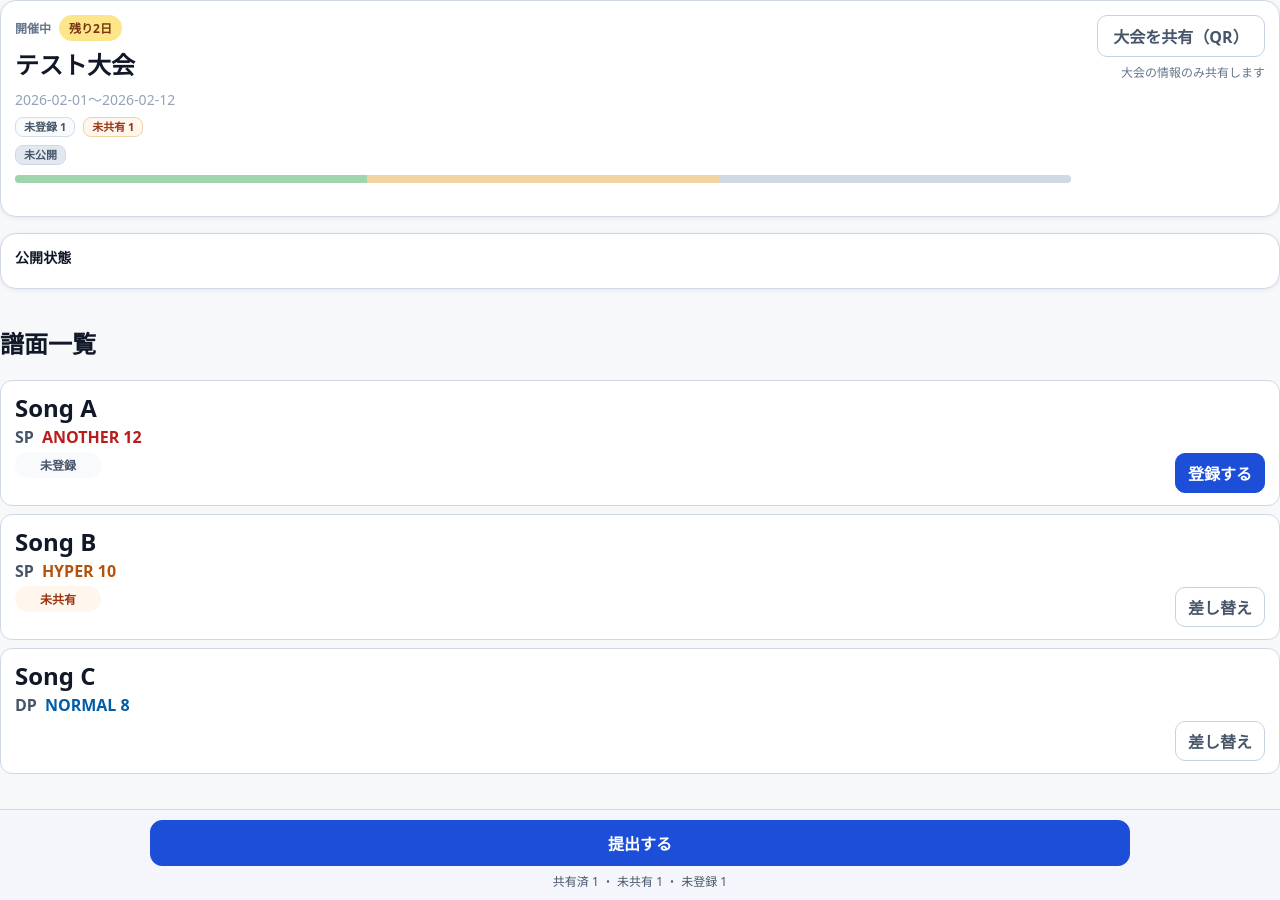
Test: TournamentDetailPage › opens submit share confirm dialog with cancel and one submit action
The image size is (1280, 900).
Click the button with test id "tournament-detail-submit-open-button" at (640,843), box top-left (150, 820), bottom-right (1130, 866)
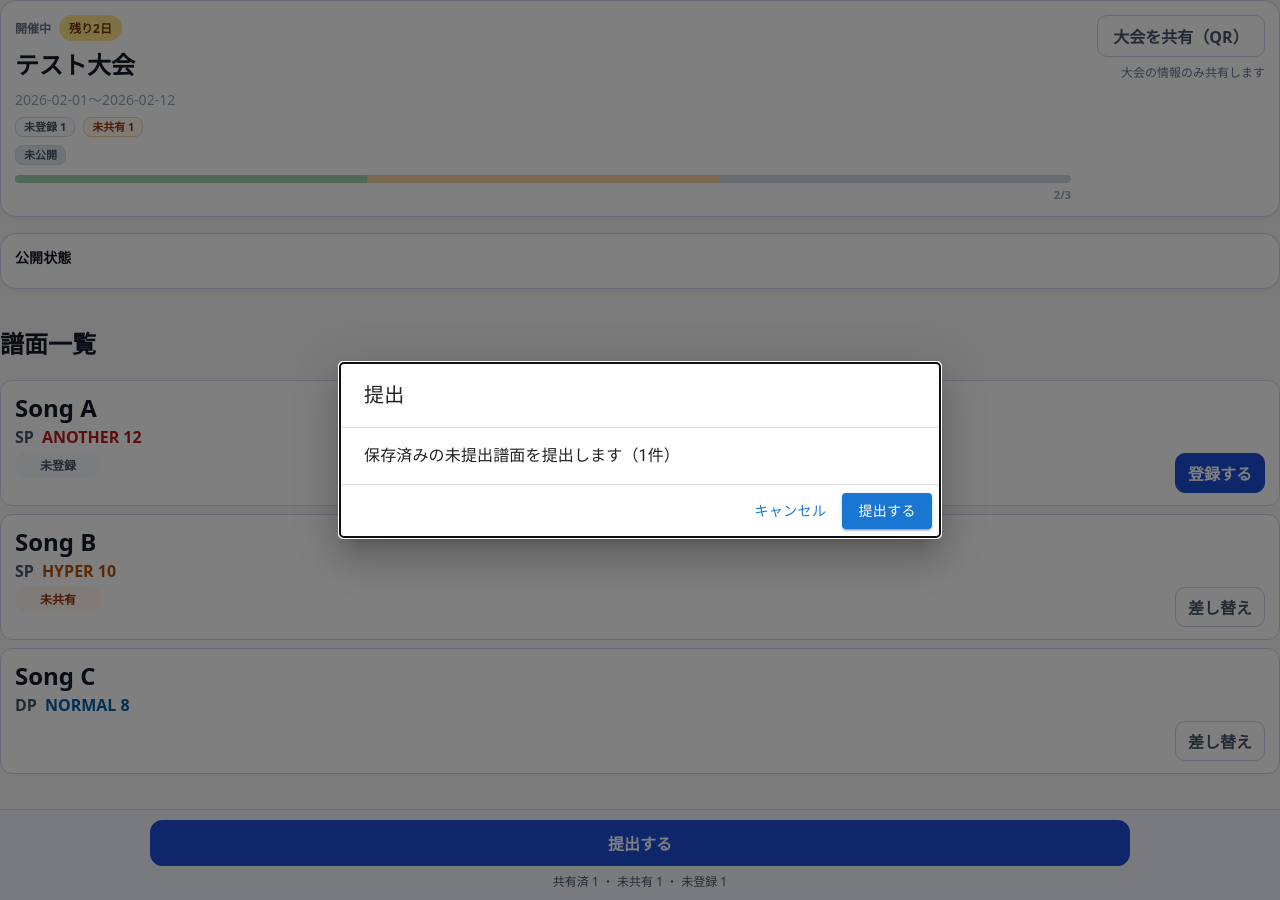
expect the element with test id "tournament-detail-submit-dialog" is shown: met
expect the text with test id "tournament-detail-submit-confirm-text" shows "保存済みの未提出譜面を提出します": met, box top-left (364, 446), bottom-right (680, 465)
expect the button "キャンセル" is shown: met, box top-left (746, 493), bottom-right (834, 529)
